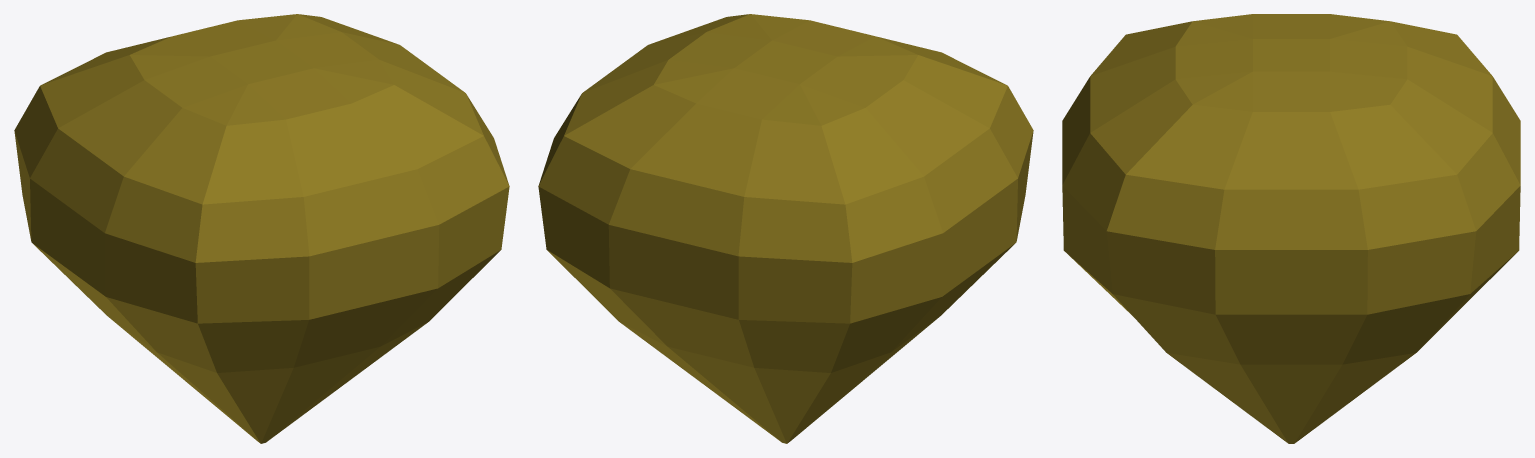
The model's file is DiamondGem2.fbx.
3 renders of one model, left to right at view 1: azimuth 30°, elevation 25°; view 2: azimuth 150°, elevation 25°; view 3: azimuth 270°, elevation 25°, orthographic.
Parts seen in each view (by area): view 1: DiamondGem; view 2: DiamondGem; view 3: DiamondGem.
Boxes of the visible parts, x1=… form: DiamondGem: x1=14, y1=14, x2=509, y2=443; DiamondGem: x1=538, y1=14, x2=1033, y2=443; DiamondGem: x1=1062, y1=14, x2=1520, y2=443.
Size of the model in its own units: 31.34 by 29.24 by 31.34.
